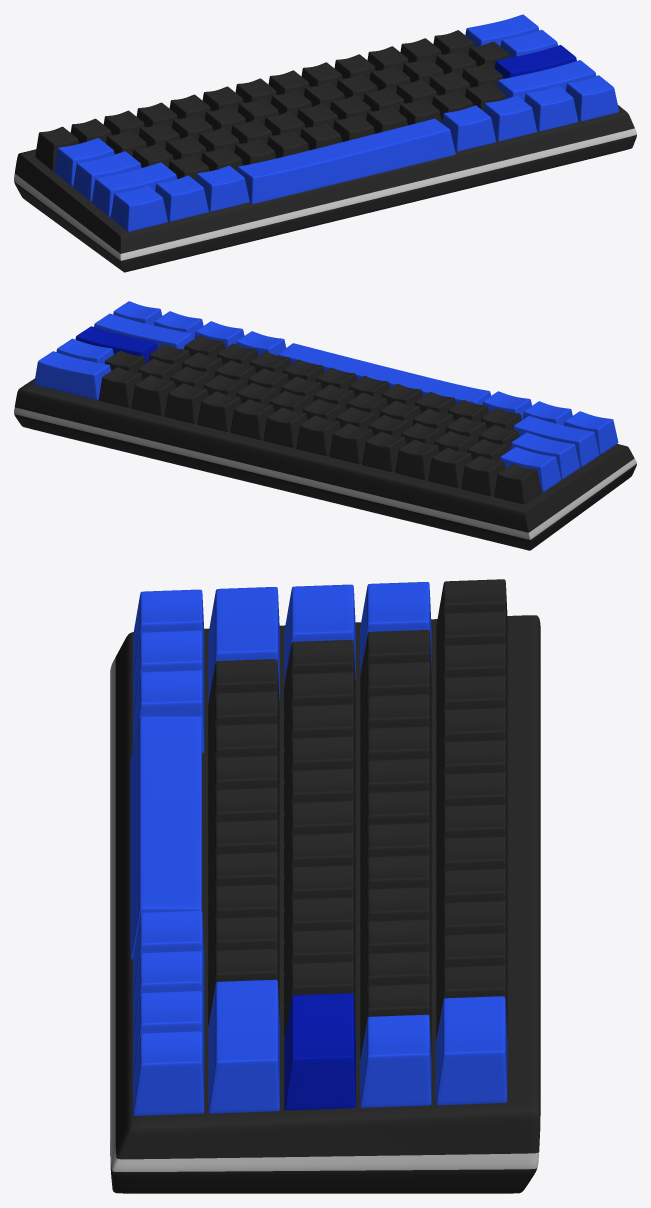
File: keyboard.obj
The picture shows the model from 3 angles, top to bottom: view 1: azimuth 30°, elevation 25°; view 2: azimuth 150°, elevation 25°; view 3: azimuth 270°, elevation 25°; orthographic projection. The views are drawn at different scales.
Visible parts, largest first — view 1: Cube, Cube.6, Cube.3, Cube.2, Cube.11, Cube.6_1, Cube.8_1, Cube.4, Cube.5, Cube.7, Cube.8, Cube.1 (+50 smaller); view 2: Cube, Cube.6, Cube.14, Cube.2, Cube.11, Cube.1_34, Cube.1, Cube.12, Cube_1, Cube.1_39, Cube.1_37, Cube.1_40 (+50 smaller); view 3: Cube, Cube.6, Cube.11, Cube.12, Cube.14, Cube.13, Cube.8, Cube.2, Cube.1, Cube_1, Cube.5, Cube.3 (+50 smaller).
Part boxes in pixels (<box>): Cube: <box>14,105,636,272</box>; Cube.6: <box>237,118,455,204</box>; Cube.3: <box>110,185,167,231</box>; Cube.2: <box>91,162,177,216</box>; Cube.11: <box>497,60,596,100</box>; Cube.6_1: <box>442,105,496,151</box>; Cube.8_1: <box>524,85,578,131</box>; Cube.4: <box>155,175,208,221</box>; Cube.5: <box>196,165,249,211</box>; Cube.7: <box>483,95,537,141</box>; Cube.8: <box>566,75,619,121</box>; Cube.1: <box>73,151,141,201</box>; Cube: <box>14,378,636,550</box>; Cube.6: <box>278,343,491,404</box>; Cube.14: <box>34,351,110,399</box>; Cube.2: <box>513,416,599,466</box>; Cube.11: <box>94,313,193,349</box>; Cube.1_34: <box>494,463,541,504</box>; Cube.1: <box>510,432,580,479</box>; Cube.12: <box>75,326,157,362</box>; Cube_1: <box>500,447,561,491</box>; Cube.1_39: <box>329,423,373,464</box>; Cube.1_37: <box>395,439,439,480</box>; Cube.1_40: <box>296,415,340,455</box>; Cube: <box>110,615,540,1193</box>; Cube.6: <box>130,716,201,959</box>; Cube.11: <box>208,979,279,1113</box>; Cube.12: <box>284,993,355,1110</box>; Cube.14: <box>435,996,507,1105</box>; Cube.13: <box>360,1014,431,1107</box>; Cube.8: <box>133,1031,204,1115</box>; Cube.2: <box>208,587,279,703</box>; Cube.1: <box>284,584,355,684</box>; Cube_1: <box>360,582,431,674</box>; Cube.5: <box>133,670,204,752</box>; Cube.3: <box>133,589,204,674</box>.
Bounding box in the file's own units: 832 × 102 × 300.
